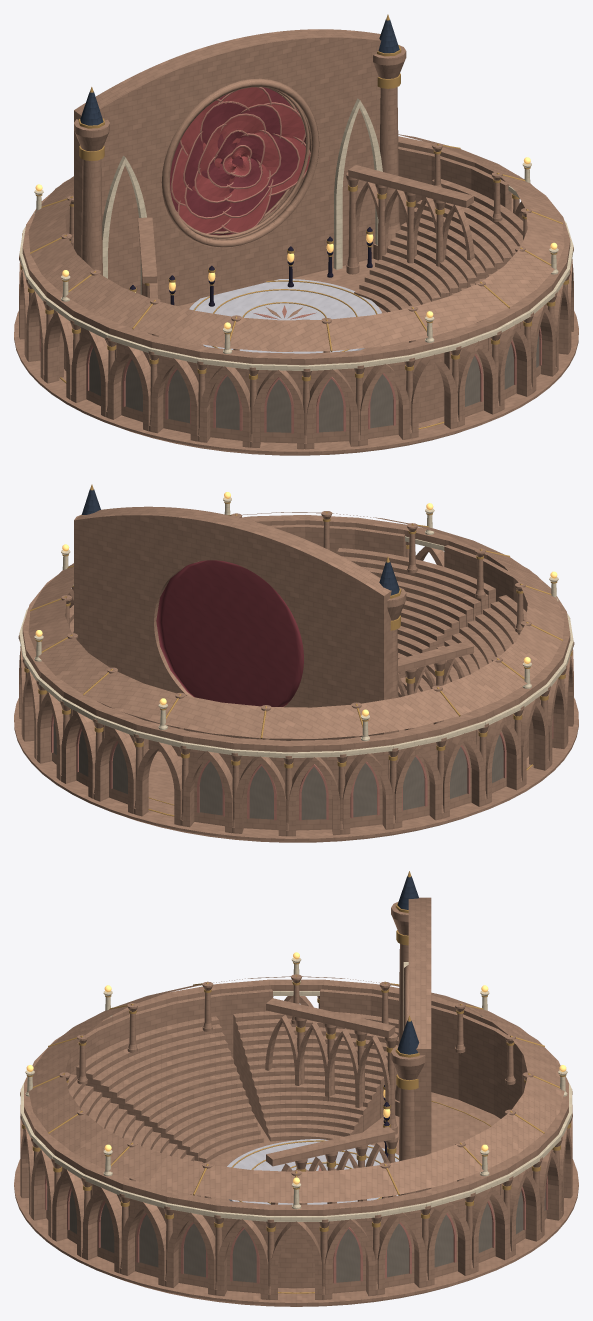
File: rose-stage.glb
3 views of the same model, one above another, from view 1: azimuth 30°, elevation 25°; view 2: azimuth 150°, elevation 25°; view 3: azimuth 270°, elevation 25° (orthographic).
Size of the model in its own units: 28.4 by 13.92 by 28.4.
12 materials, 12 textured.
